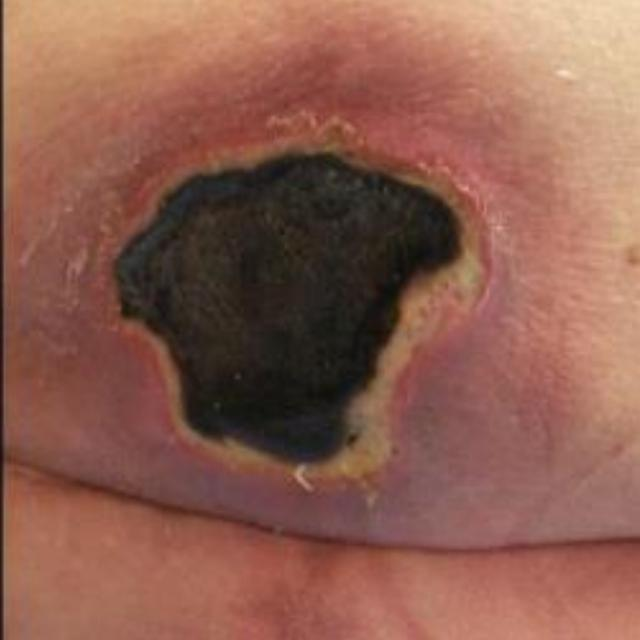Unstageable: (115, 152, 482, 492)
